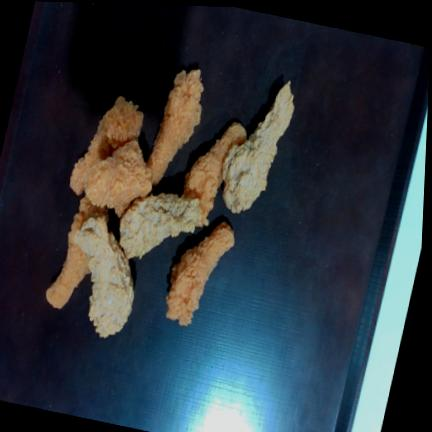chicken: (222, 82, 294, 213), (75, 218, 134, 337), (167, 222, 234, 325), (47, 196, 108, 308), (147, 70, 204, 185), (183, 123, 246, 225), (120, 193, 202, 258), (85, 140, 152, 217), (103, 96, 143, 149)
